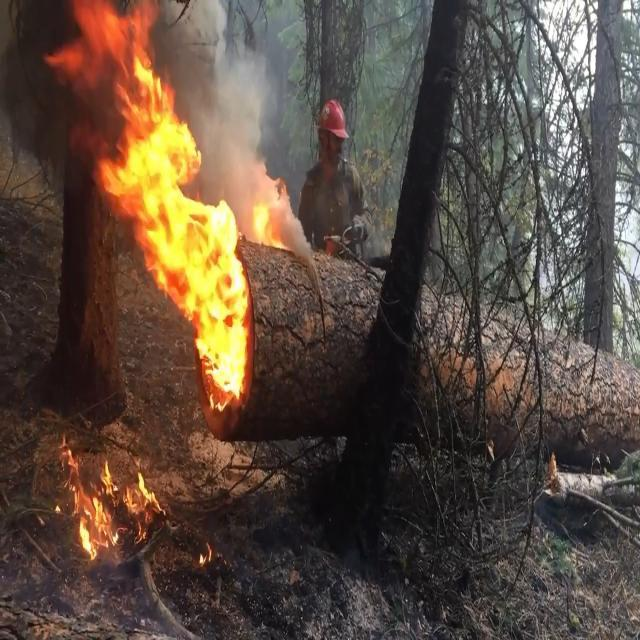Fire: (42, 0, 252, 404)
